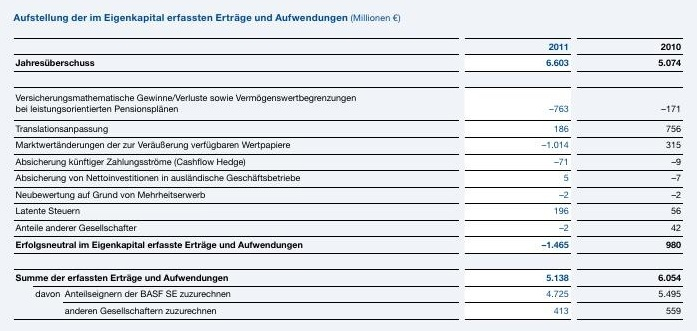table: (0, 0, 697, 331)
